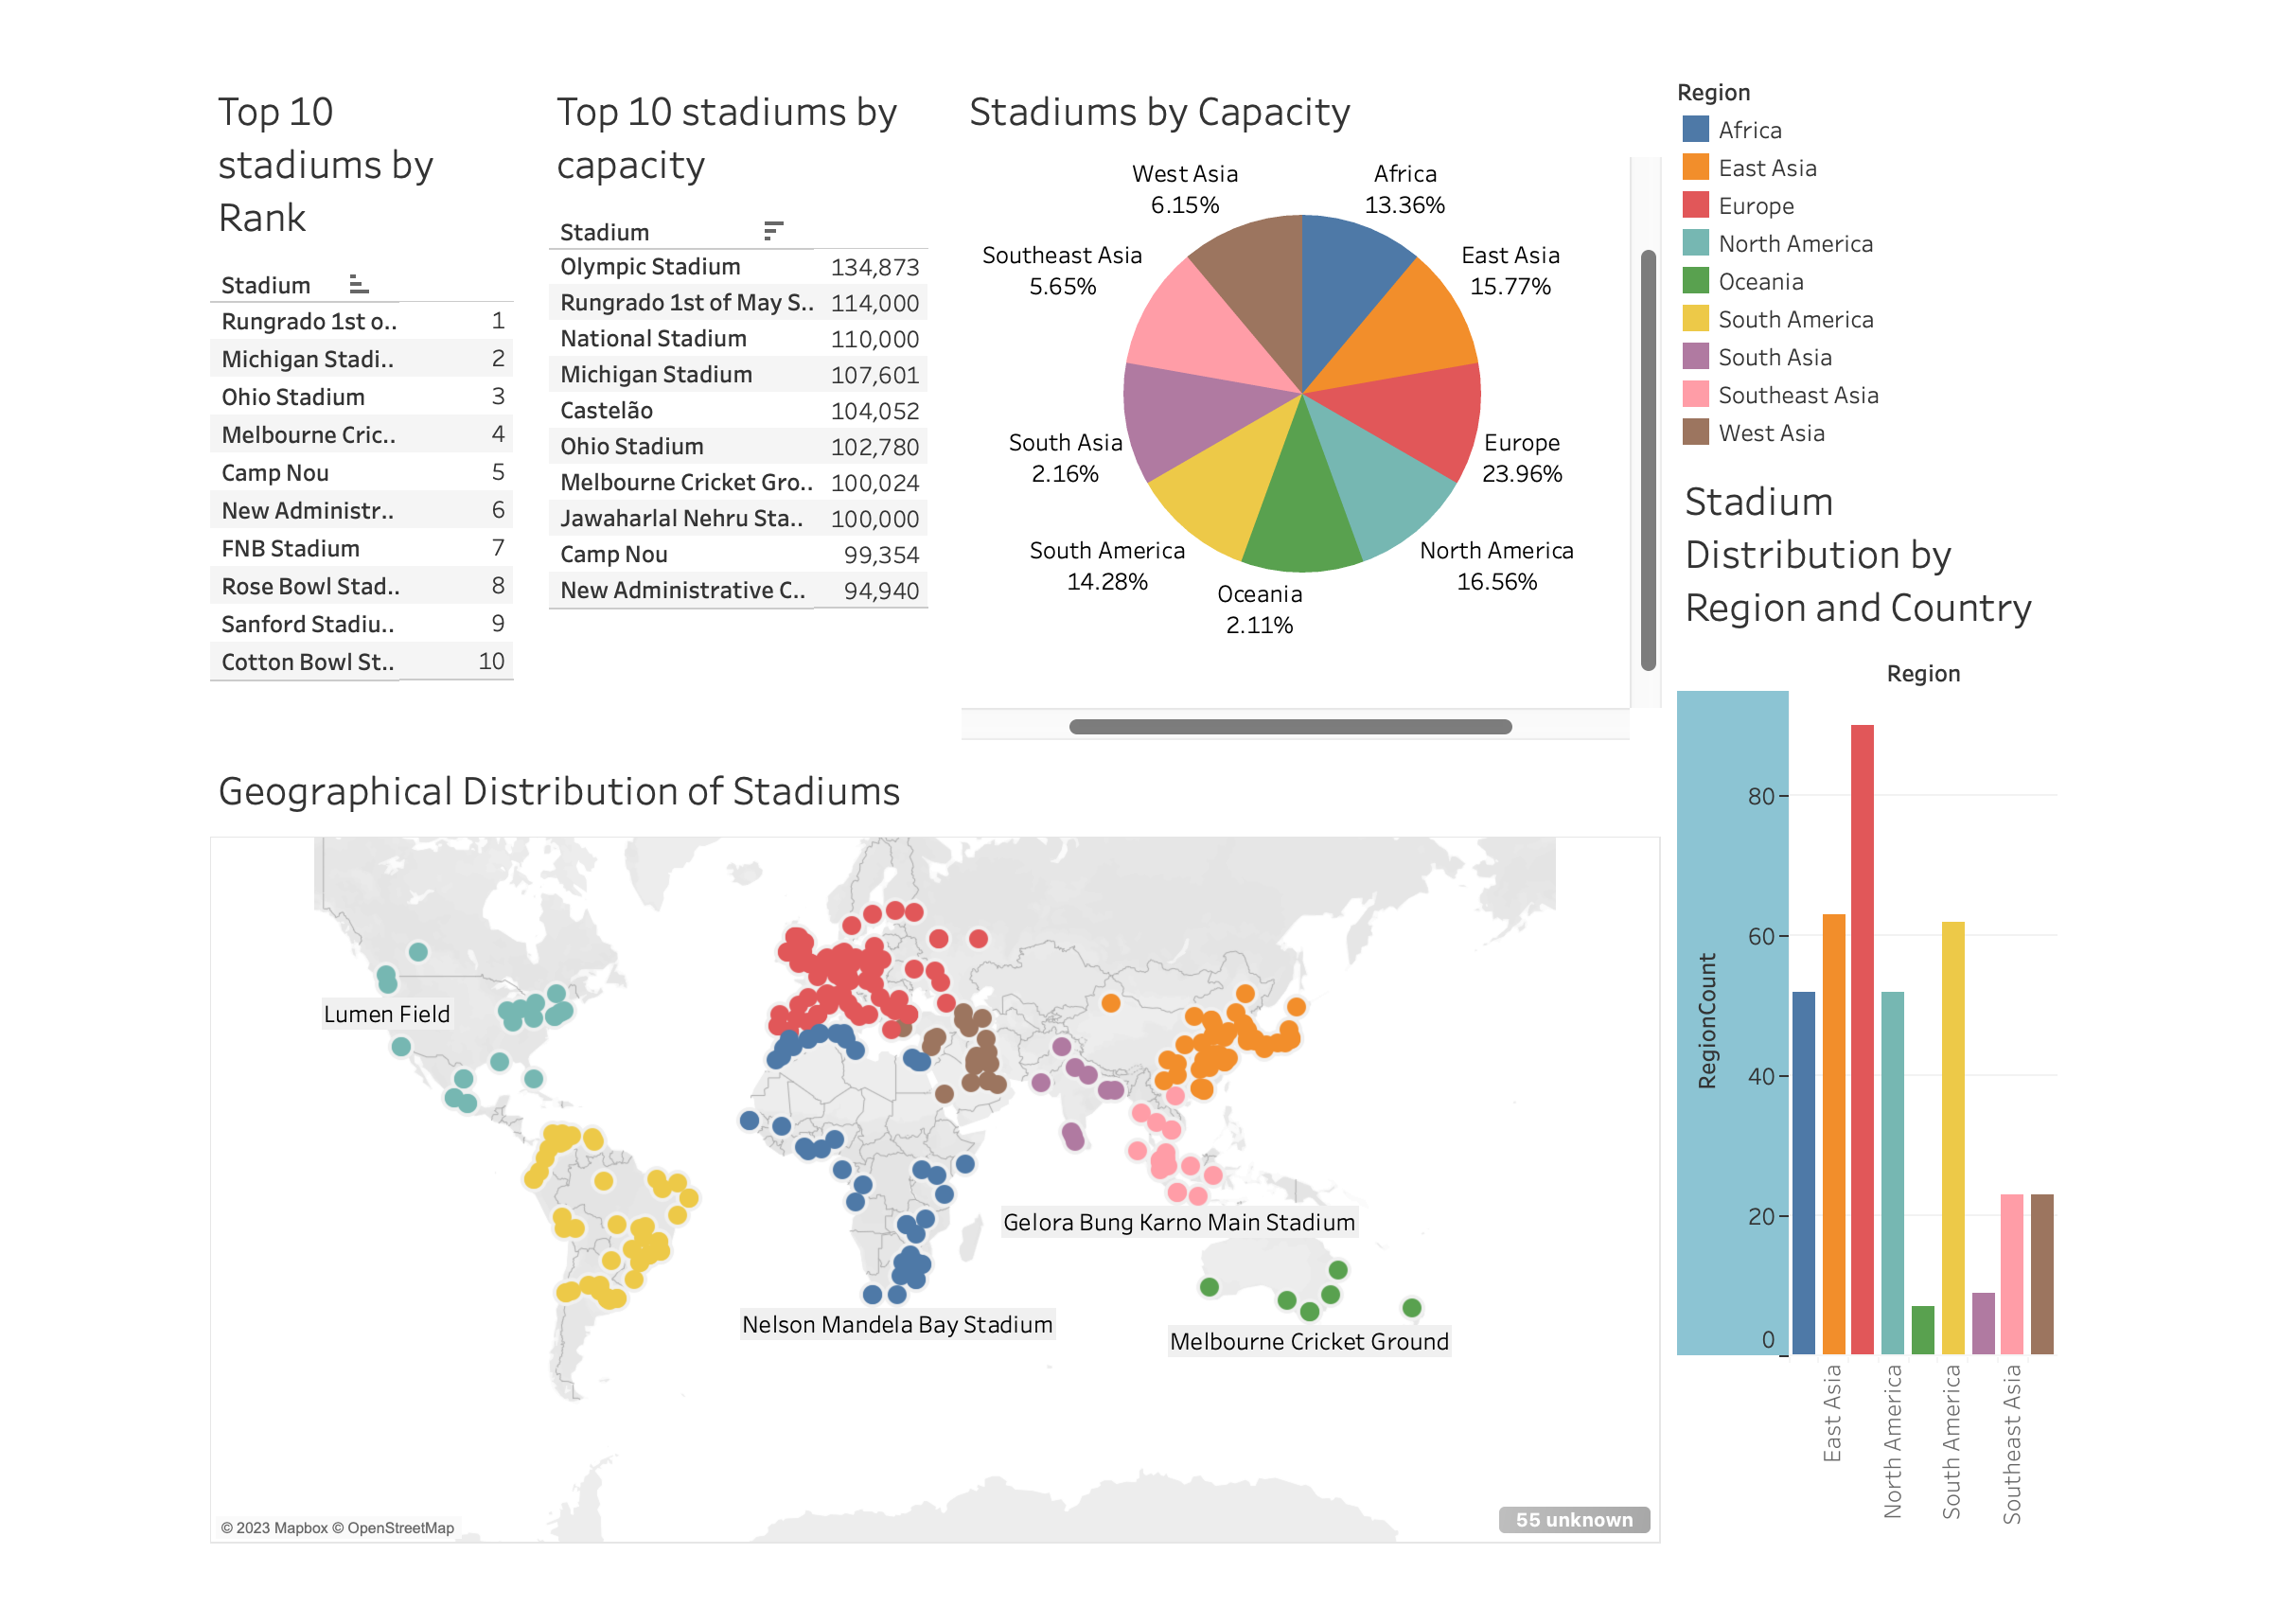

The page's visual inventory and layout, read from the dashboard file:
{"tool":"tableau","page":{"name":"Dashboard 1","canvas":[1000,800],"ordinal":0},"visuals":[{"type":"worksheet","title":"Top 10 stadiums by Rank","mark":"Automatic","rows":["stadium"],"box":[8,8,178.7,359]},{"type":"worksheet","title":"Top 10 stadiums by capacity","mark":"Automatic","rows":["stadium"],"box":[186.7,8,218.2,359]},{"type":"worksheet","title":"Stadiums by Capacity","mark":"Pie","box":[404.9,8,378.1,359]},{"type":"legend","title":"Geographical Distribution of Stadiums","param":"[federated.0dpkfs50148lxz1emlaop1ry5reg].[none:region:nk]","box":[783,8,209,206]},{"type":"worksheet","title":"Stadium Distribution by Region and Country","mark":"Automatic","rows":["Calculation_90212754508247040"],"cols":["region"],"box":[783,214,209,578]},{"type":"worksheet","title":"Geographical Distribution of Stadiums","mark":"Automatic","box":[8,367,775,425]}]}

Visuals, with their boxes on the page's 1000x800 design canvas (x1, y1, x2, y2). These are canvas units, not pixel positions in the 2296x1607 screenshot, which may show the page scaled, cropped or inside an application window:
"Top 10 stadiums by Rank" worksheet: locate(8, 8, 187, 367)
"Top 10 stadiums by capacity" worksheet: locate(187, 8, 405, 367)
"Stadiums by Capacity" worksheet (Pie marks): locate(405, 8, 783, 367)
"Geographical Distribution of Stadiums" legend: locate(783, 8, 992, 214)
"Stadium Distribution by Region and Country" worksheet: locate(783, 214, 992, 792)
"Geographical Distribution of Stadiums" worksheet: locate(8, 367, 783, 792)
